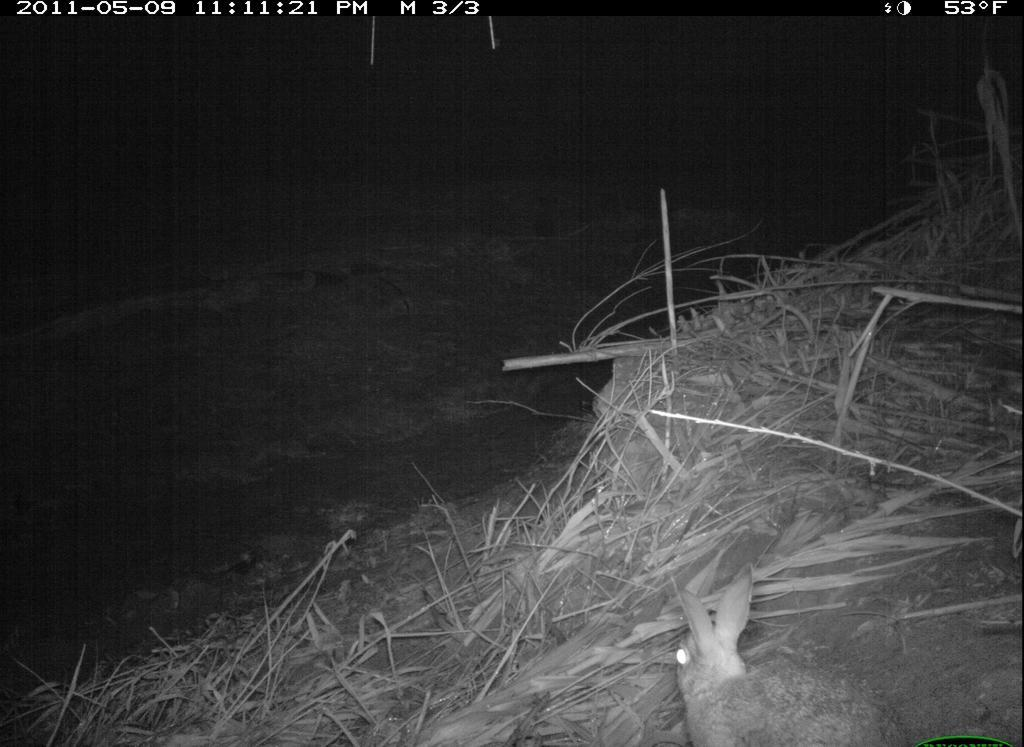rabbit: (655, 555, 921, 747)
